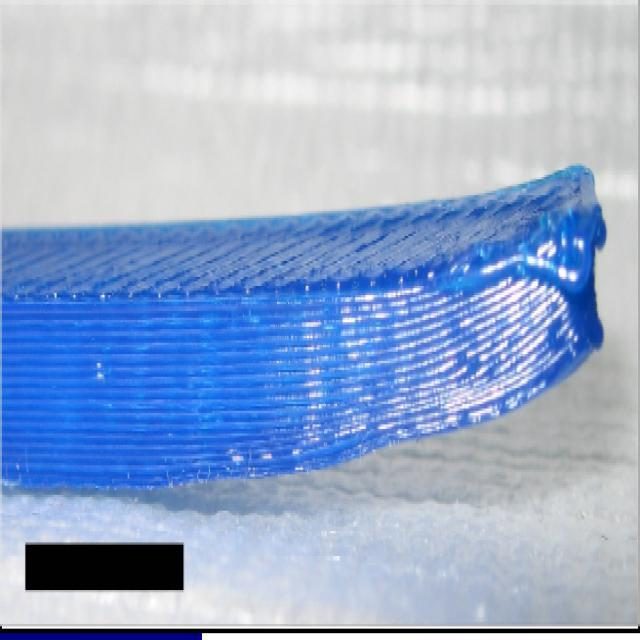Warping: (154, 290, 610, 532)
